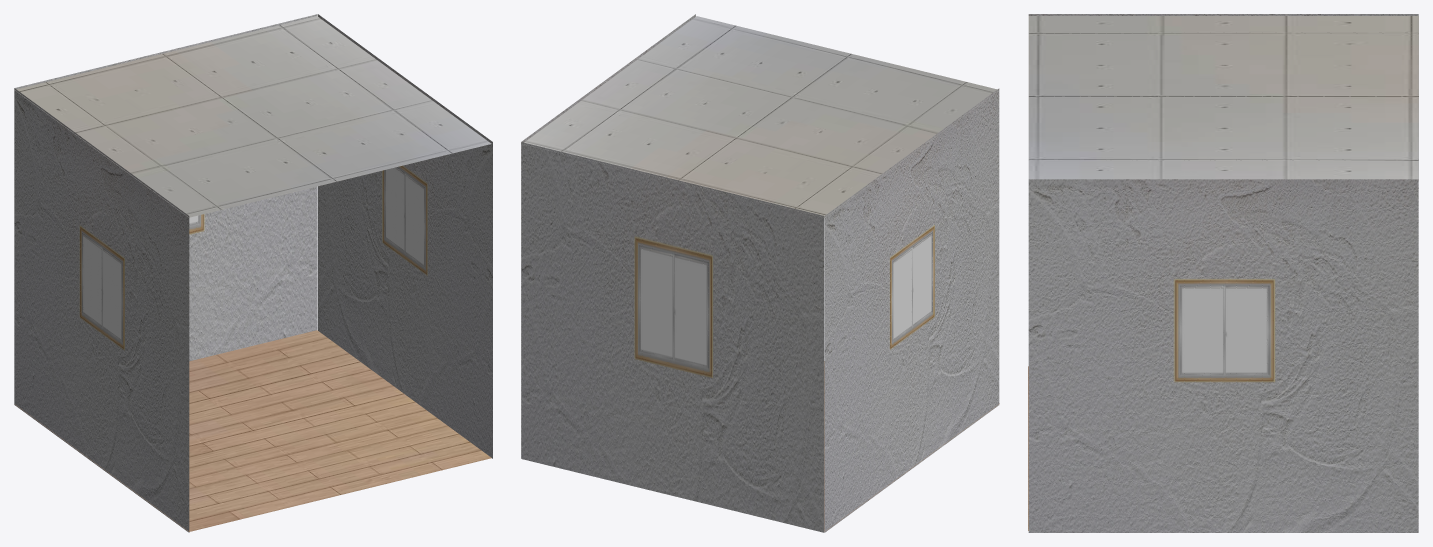
3 renders of one model, left to right at view 1: azimuth 30°, elevation 25°; view 2: azimuth 150°, elevation 25°; view 3: azimuth 270°, elevation 25°, orthographic. The views are drawn at different scales.
Parts seen in each view (by area): view 1: polySurface5, polySurface1, polySurface3, polySurface2, polySurface4; view 2: polySurface4, polySurface5, polySurface1, polySurface3; view 3: polySurface3, polySurface1, polySurface5.
Boxes of the visible parts, box(x1,y1,x2,y2) form: polySurface5: box(14, 88, 189, 532); polySurface1: box(14, 16, 491, 217); polySurface3: box(318, 14, 492, 458); polySurface2: box(15, 330, 491, 531); polySurface4: box(15, 14, 317, 361); polySurface4: box(521, 142, 824, 532); polySurface5: box(824, 88, 999, 532); polySurface1: box(524, 16, 998, 217); polySurface3: box(521, 14, 695, 458); polySurface3: box(1028, 179, 1418, 532); polySurface1: box(1028, 16, 1418, 180); polySurface5: box(1028, 14, 1418, 15).
Bounding box in the file's own units: 23.95 × 23.88 × 23.91.
3 materials, 3 textured.
